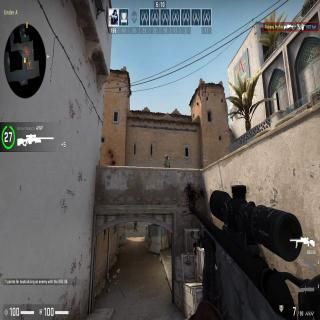CT-Body: (162, 154, 170, 168), (134, 221, 137, 231)
CT-Head: (165, 154, 168, 158)
